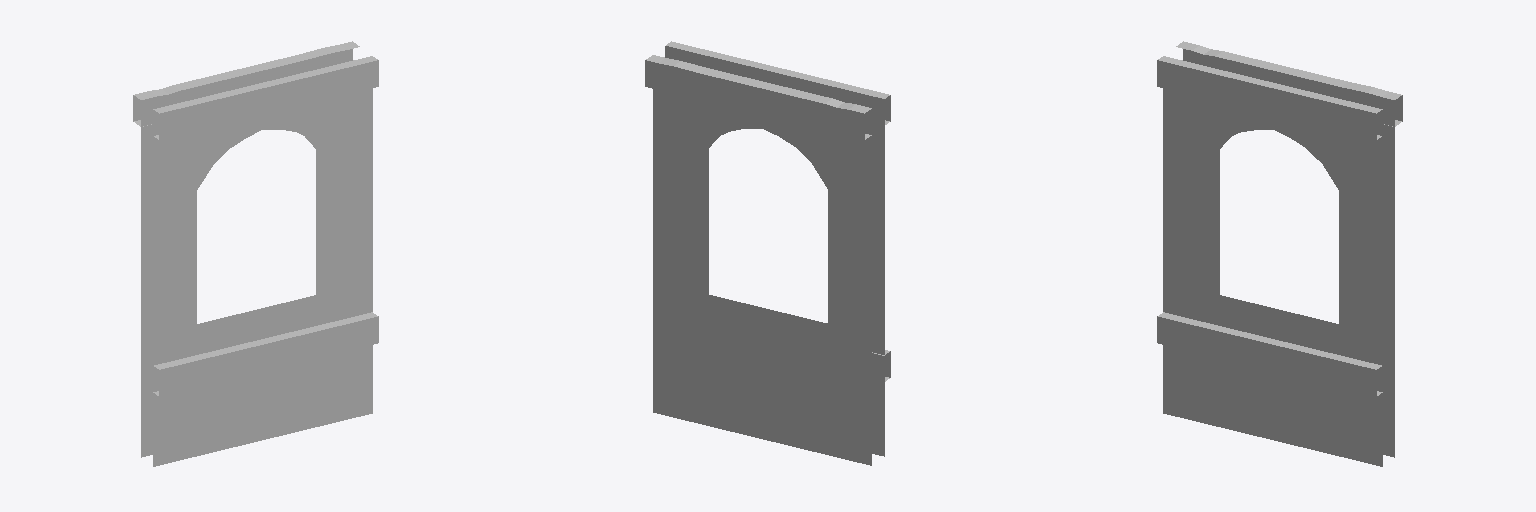
Rendered from Wall_Plaster_Window_Wide_Round.obj.
3 renders of one model, left to right at view 1: azimuth 30°, elevation 25°; view 2: azimuth 150°, elevation 25°; view 3: azimuth 330°, elevation 25°, orthographic.
Visible parts, largest first — view 1: Wall_Plaster_Window_Wide_Round; view 2: Wall_Plaster_Window_Wide_Round; view 3: Wall_Plaster_Window_Wide_Round.
Part boxes in pixels (x1,y1,x2,y2): Wall_Plaster_Window_Wide_Round: (133,41,378,466); Wall_Plaster_Window_Wide_Round: (645,41,890,465); Wall_Plaster_Window_Wide_Round: (1157,41,1402,466).
Bounding box in the file's own units: 2 × 3.12 × 0.4065.